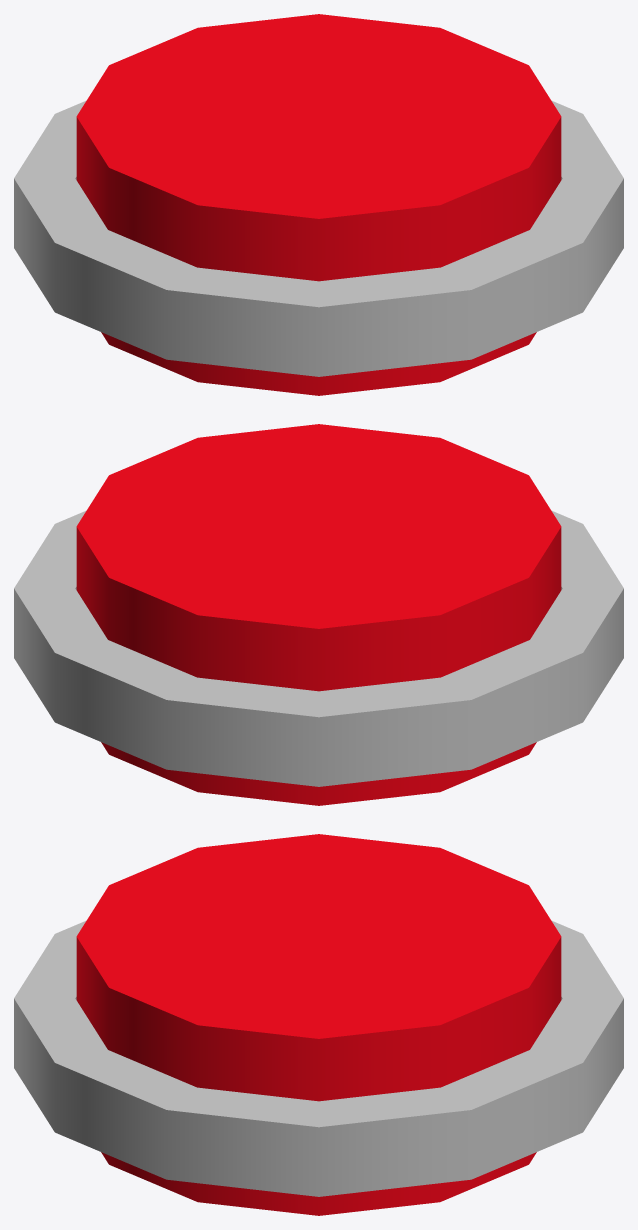
The model's file is switch.fbx.
3 renders of one model, top to bottom at view 1: azimuth 30°, elevation 25°; view 2: azimuth 150°, elevation 25°; view 3: azimuth 270°, elevation 25°, orthographic.
Visible parts, largest first — view 1: switchredactived, switchbase, switchreddesactived; view 2: switchredactived, switchbase, switchreddesactived; view 3: switchredactived, switchbase, switchreddesactived.
Part boxes in pixels (x1,y1,x2,y2): switchredactived: (76,14,561,281); switchbase: (14,101,623,376); switchreddesactived: (90,201,539,395); switchredactived: (76,424,561,690); switchbase: (14,511,623,786); switchreddesactived: (86,589,561,805); switchredactived: (76,834,561,1101); switchbase: (14,921,623,1196); switchreddesactived: (76,999,561,1215).
Bounding box in the file's own units: 11.89 × 3.8 × 11.89.
Materials: 9 (8 with a texture image).
